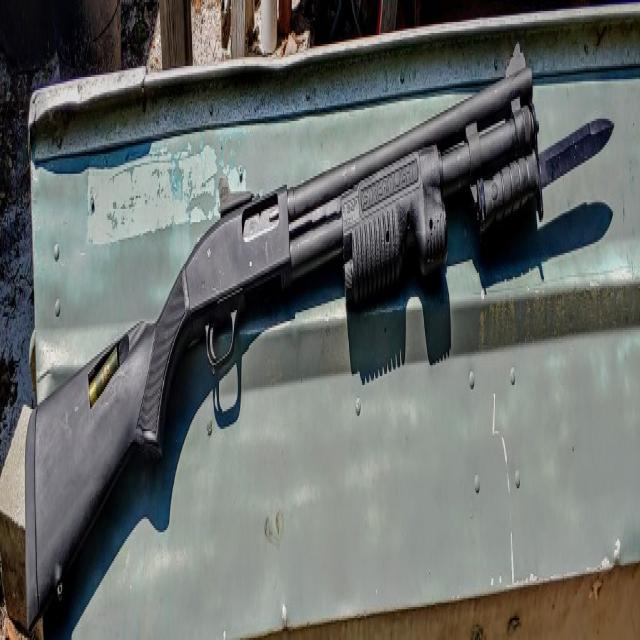Knife: (471, 119, 614, 238)
ShotGun: (25, 48, 537, 622)
